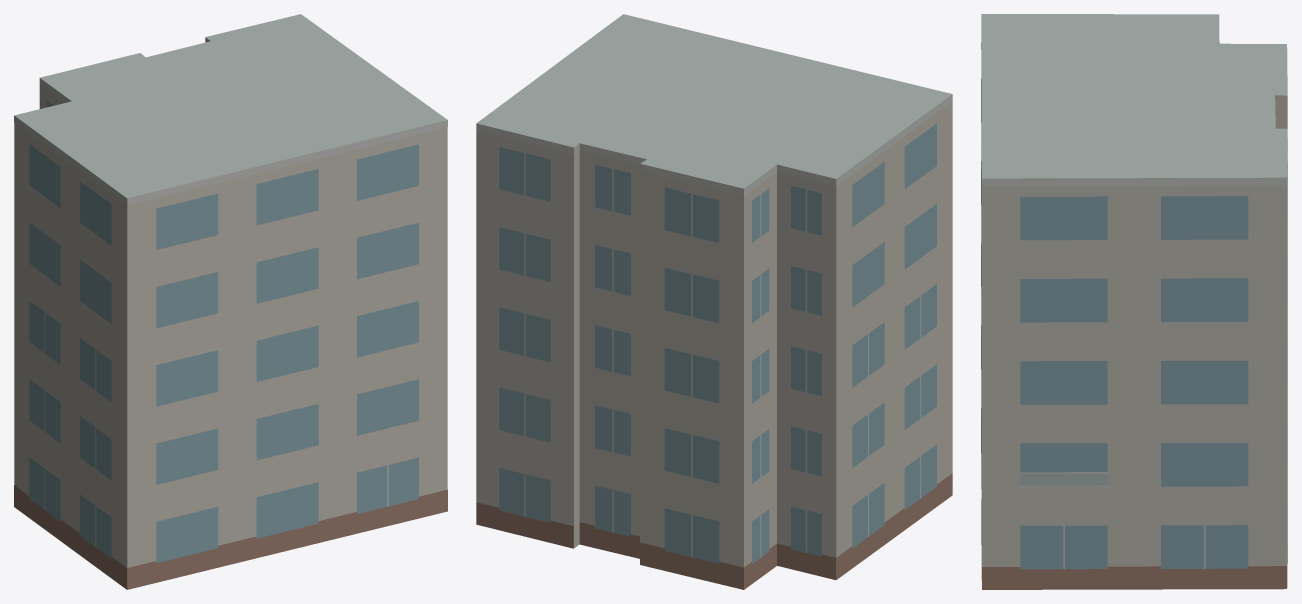
Rendered from survey-upis-32875521.glb.
3 renders of one model, left to right at view 1: azimuth 30°, elevation 25°; view 2: azimuth 150°, elevation 25°; view 3: azimuth 270°, elevation 25°, orthographic. The views are drawn at different scales.
Parts seen in each view (by area): view 1: survey-upis-32875521.tmp; view 2: survey-upis-32875521.tmp; view 3: survey-upis-32875521.tmp.
Part boxes in pixels (left/top/right/bottom): survey-upis-32875521.tmp: left=14, top=14, right=447, bottom=589; survey-upis-32875521.tmp: left=476, top=14, right=952, bottom=589; survey-upis-32875521.tmp: left=981, top=14, right=1287, bottom=589.
Bounding box in the file's own units: 11.53 × 13.4 × 9.06.
